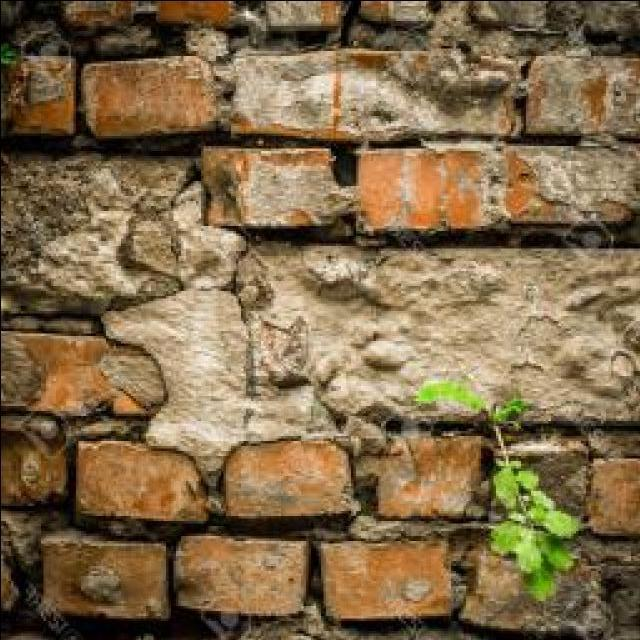crack: (241, 259, 269, 408)
dampness: (18, 23, 638, 252)
vegetation: (413, 376, 582, 602)
